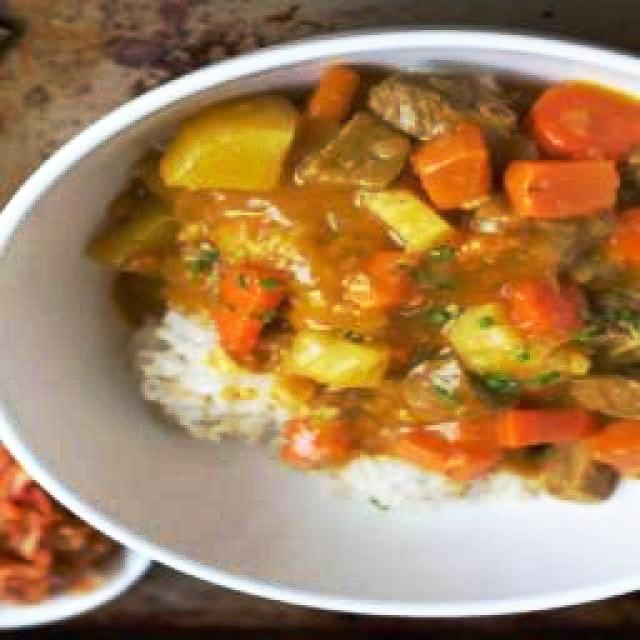curry: (93, 75, 640, 490)
rice: (132, 313, 273, 444), (341, 456, 456, 507)
